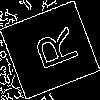R: (25, 25, 80, 76)
